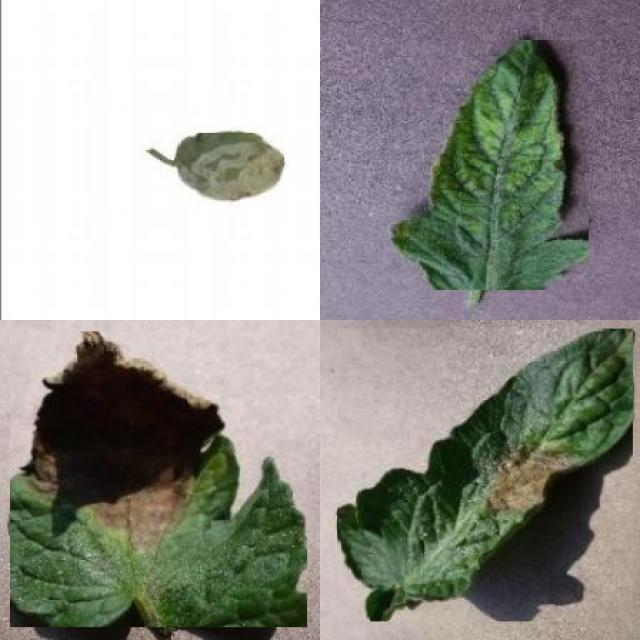Late Blight: (10, 332, 307, 627), (337, 328, 633, 622)
Leaf Miner: (174, 134, 284, 205)
Mosaic Virus: (388, 40, 588, 290)
